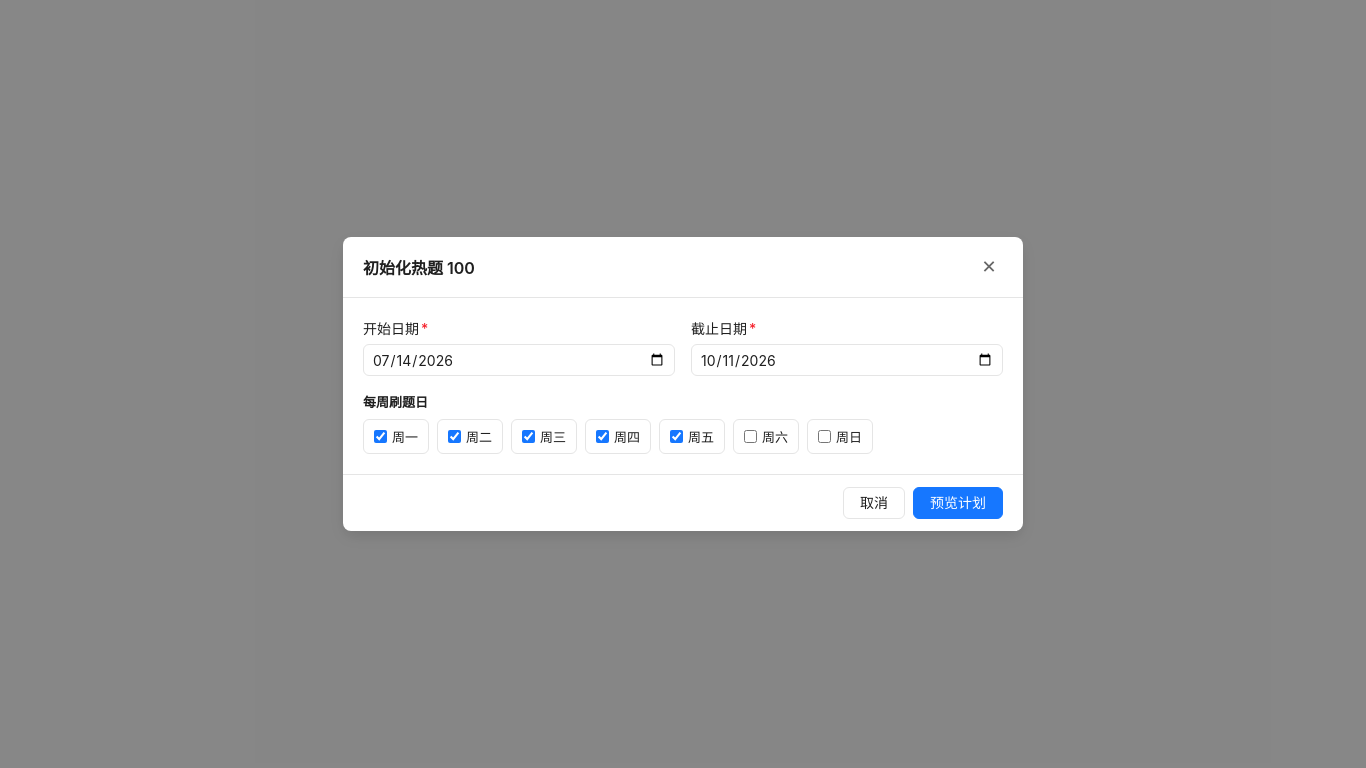
Test case: PlanSetupModal › previews the 100-problem import before confirmation
What coordinates should you click on to do the following:
click the button "预览计划"
I would click on:
 (958, 503)
Its box is x1=913 y1=487 x2=1003 y2=519.
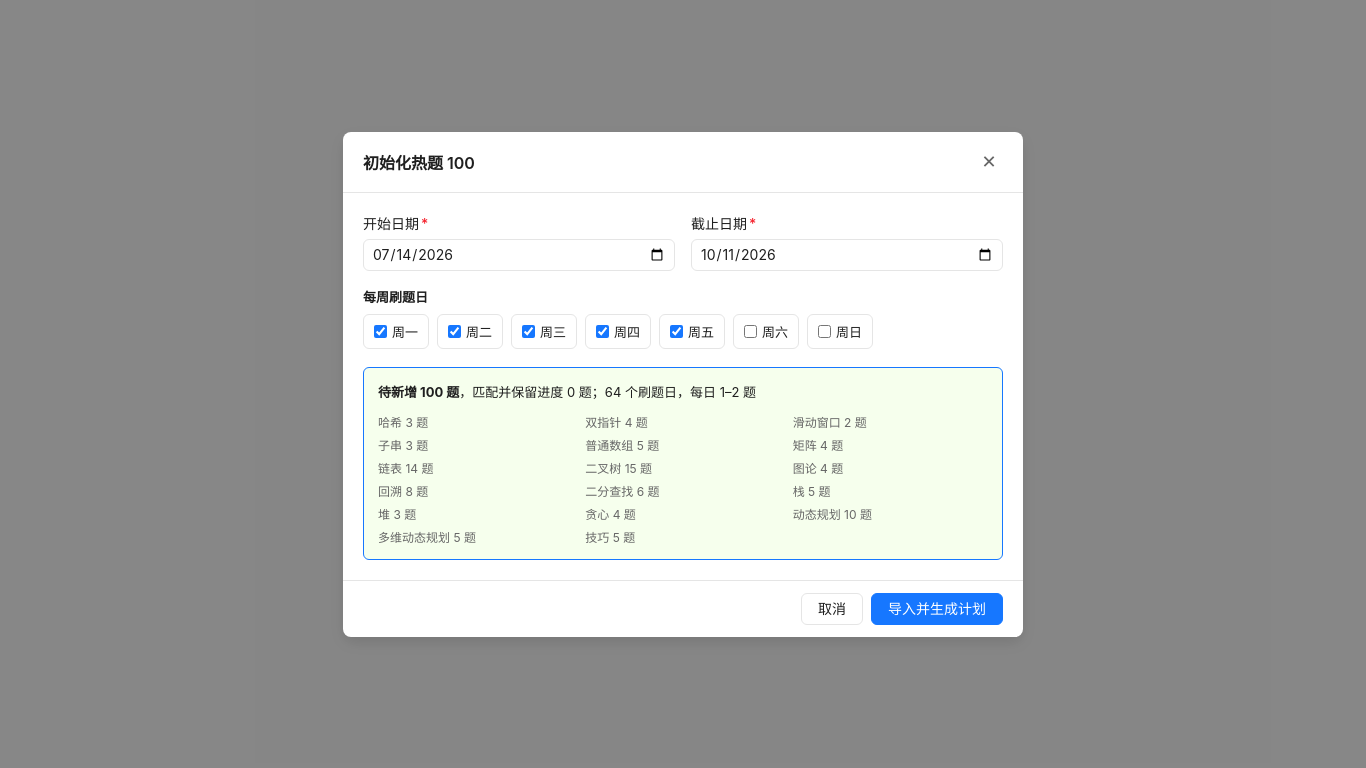
Check: the text "待新增 100 题" is shown, box x1=378 y1=384 x2=459 y2=400
Check: the text "哈希 3 题" is shown, box x1=378 y1=414 x2=428 y2=430
Check: the text "导入并生成计划" is shown, box x1=871 y1=592 x2=1003 y2=624
